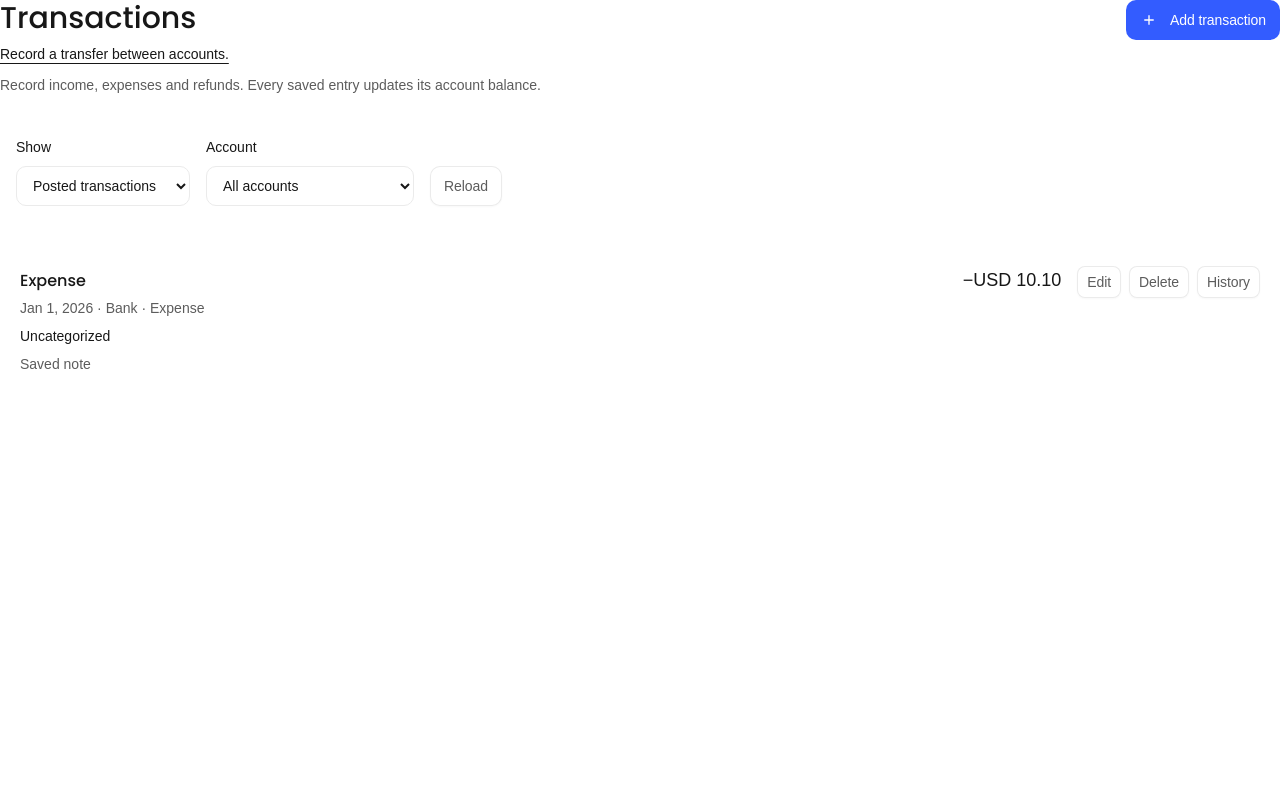
confirmed save and failed refresh closes the form without offering an unsafe resubmit
Step 1. Click the button with aria-label "Edit transaction" → (1099, 282), box x1=1077 y1=266 x2=1121 y2=298
(page scrolled)
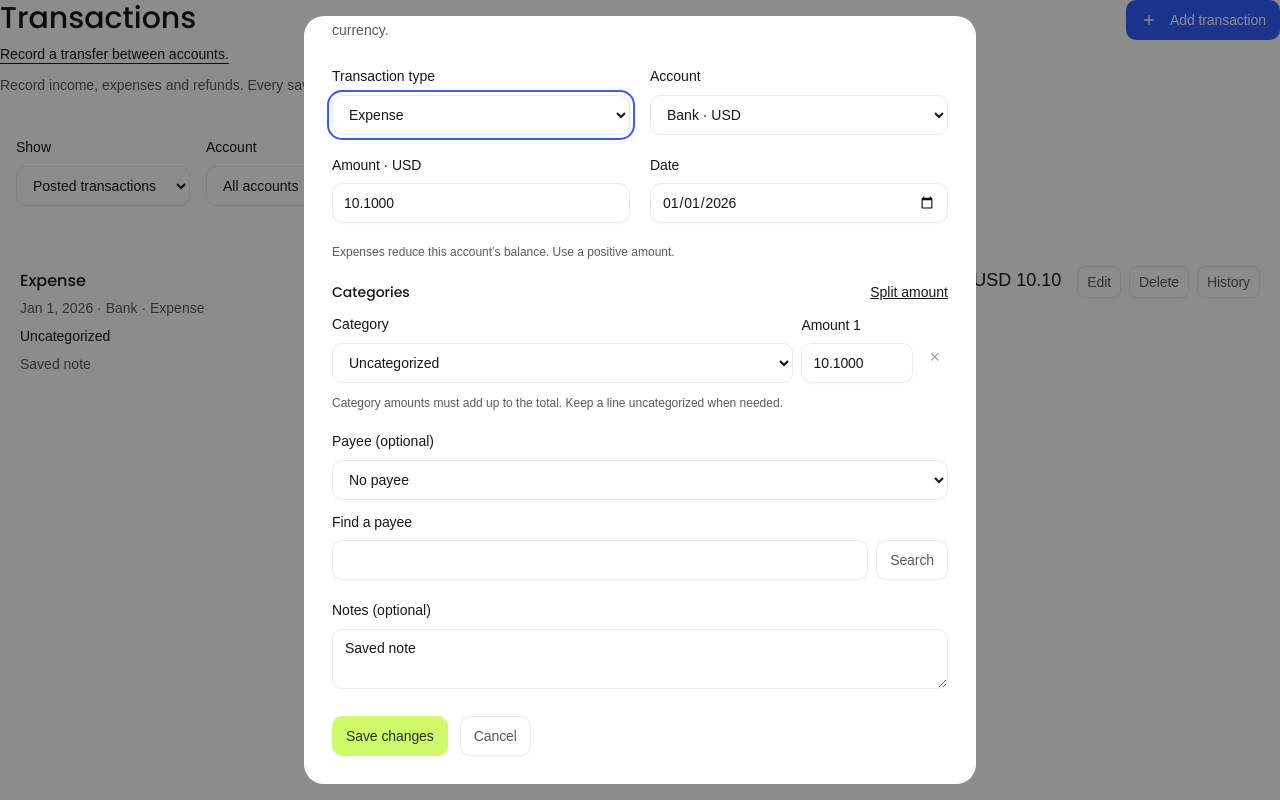
Step 2. Click the button "Save changes" → (390, 736), box x1=332 y1=716 x2=448 y2=756
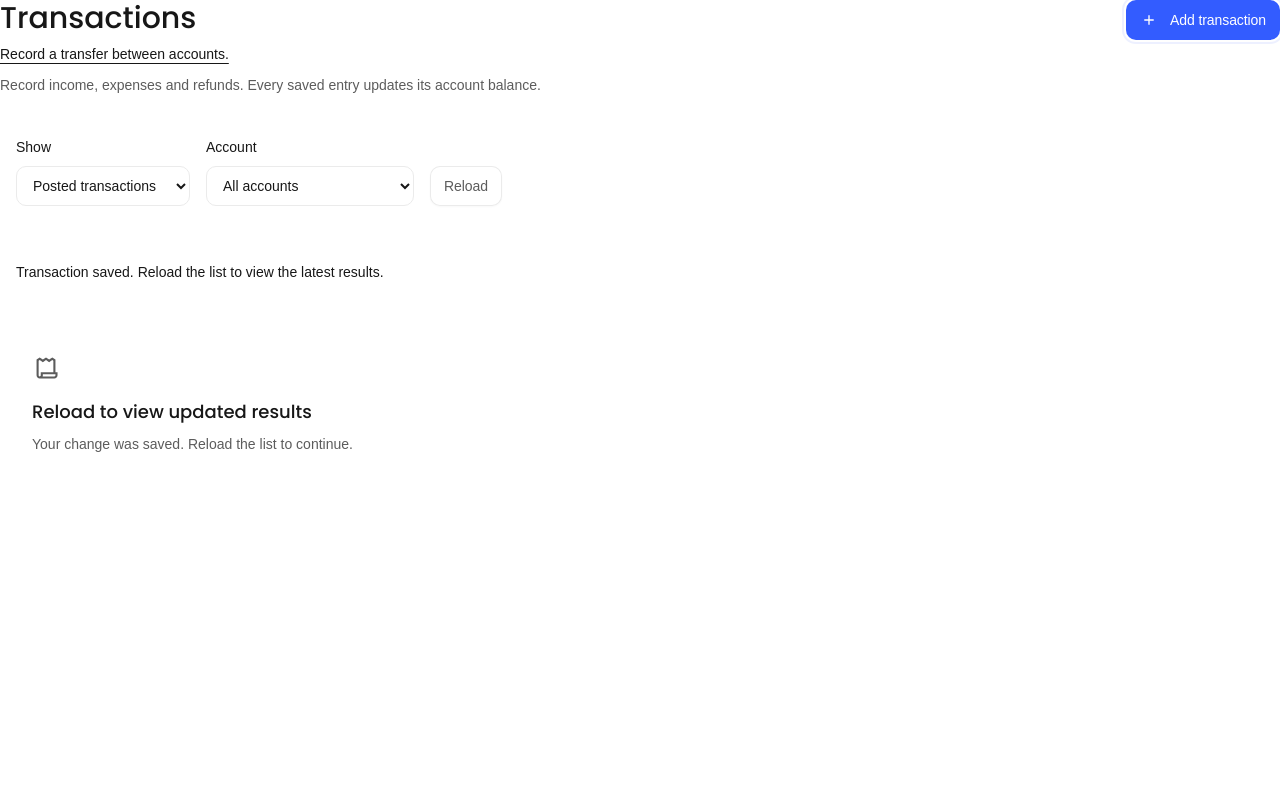
Expected: the dialog is gone
Expected: the heading "Reload to view updated results" is shown, x1=32 y1=399 x2=312 y2=424
